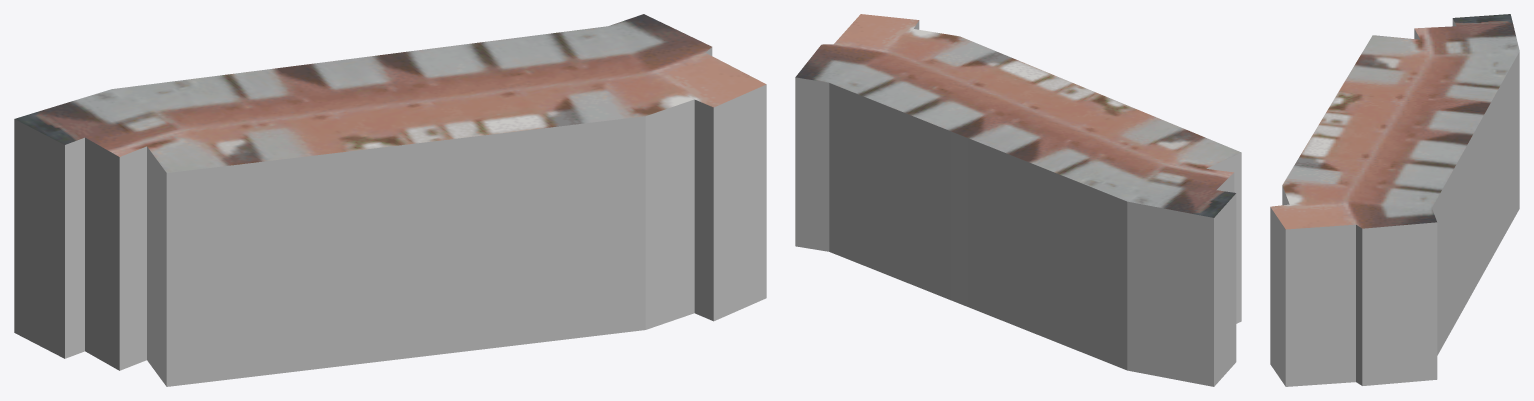
The model's file is DEBW_0010007TvlB.gltf.
3 renders of one model, left to right at view 1: azimuth 30°, elevation 25°; view 2: azimuth 150°, elevation 25°; view 3: azimuth 270°, elevation 25°, orthographic. The views are drawn at different scales.
Parts seen in each view (by area): view 1: Z_UP; view 2: Z_UP; view 3: Z_UP.
Part boxes in pixels (x1,y1,x2,y2): Z_UP: [14, 14, 766, 386]; Z_UP: [795, 14, 1241, 386]; Z_UP: [1270, 14, 1519, 386].
Size of the model in its own units: 42.53 by 14.49 by 20.81.
Materials: 2 (1 with a texture image).
